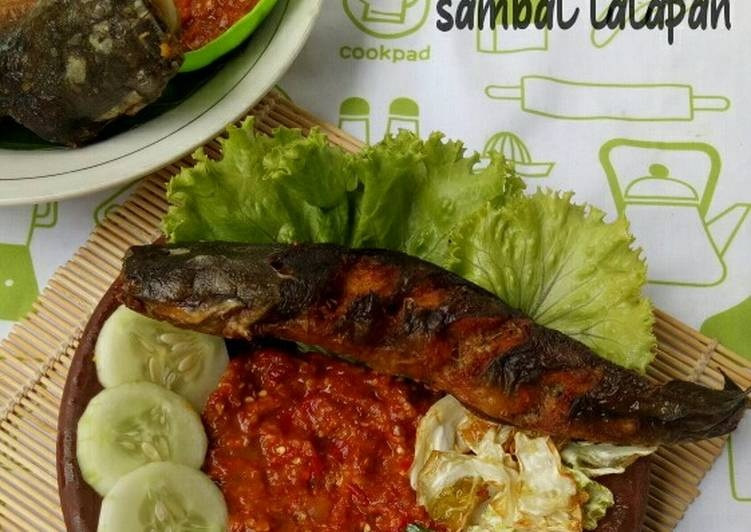pecel_lele: (100, 236, 731, 442)
